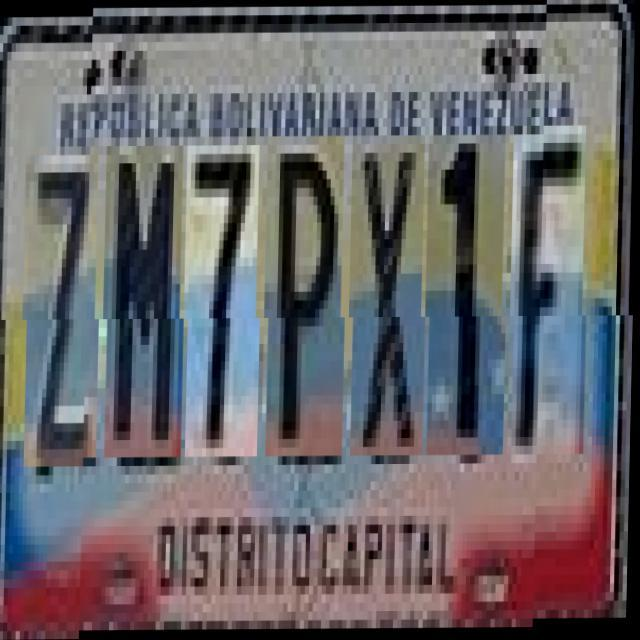1: (428, 136, 511, 456)
7: (187, 145, 264, 457)
F: (513, 135, 591, 464)
M: (106, 146, 188, 458)
P: (268, 136, 350, 456)
X: (352, 136, 430, 456)
Z: (26, 146, 103, 458)
